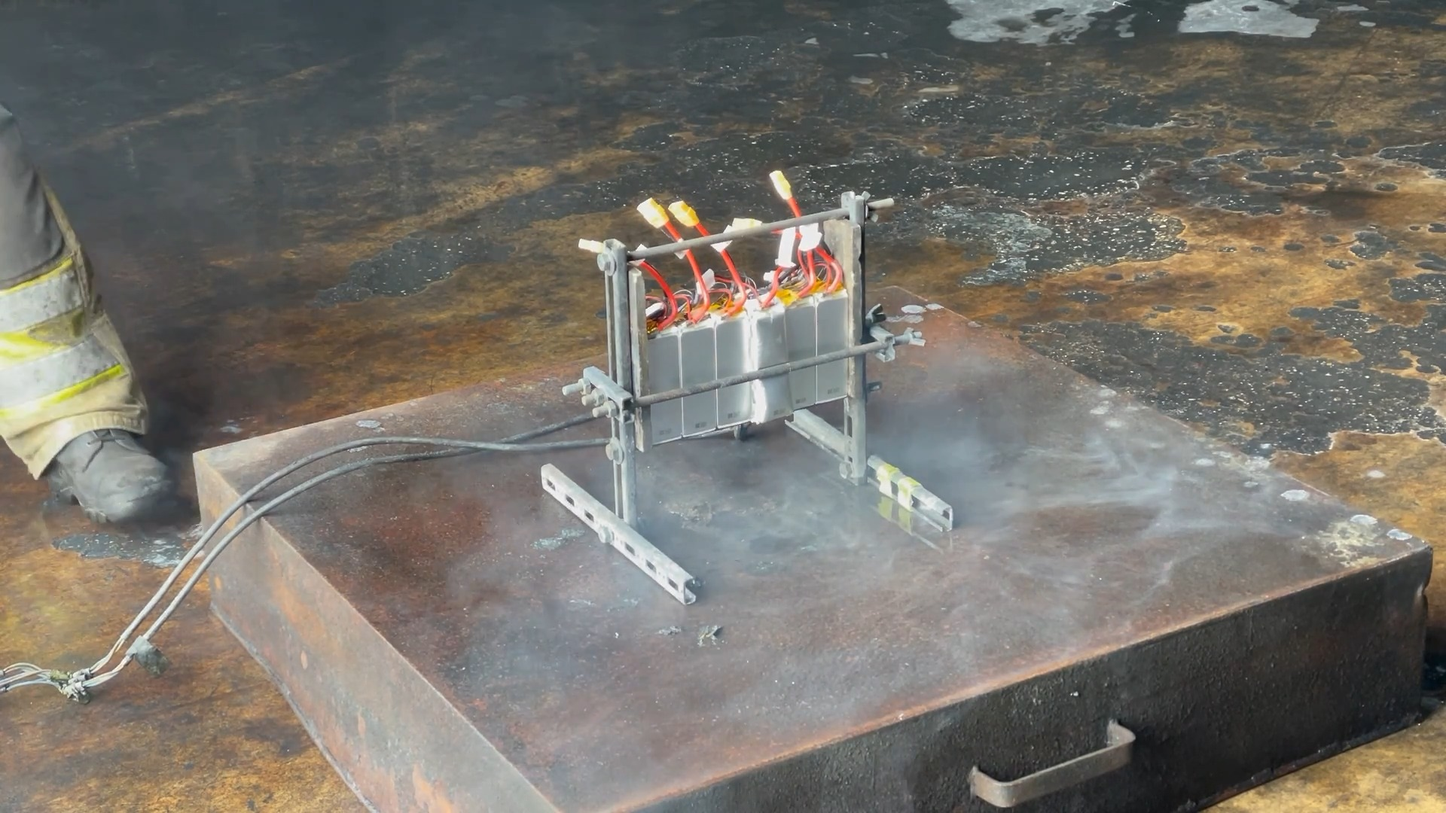smoke: (629, 282, 1138, 504)
